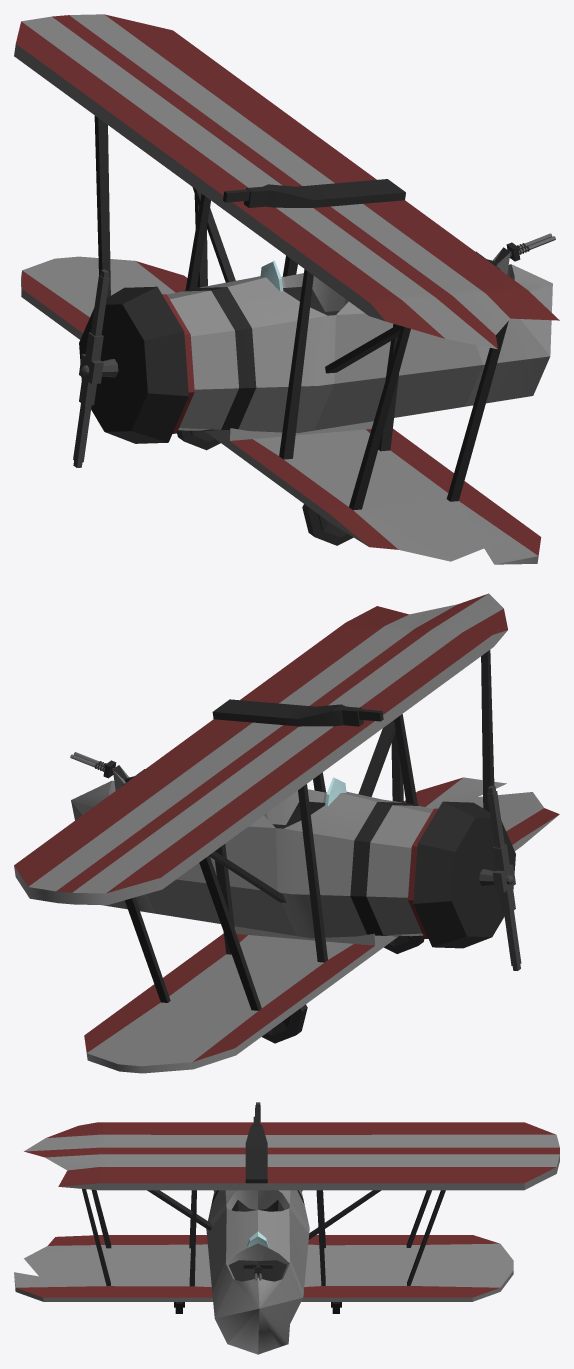
The model's file is FMP_Plane_Front_Half_Shaded.fbx.
The picture shows the model from 3 angles, top to bottom: view 1: azimuth 30°, elevation 25°; view 2: azimuth 150°, elevation 25°; view 3: azimuth 270°, elevation 25°; orthographic projection. The views are drawn at different scales.
Visible parts, largest first — view 1: polySurface494; view 2: polySurface494; view 3: polySurface494.
Part boxes in pixels (x1=…): polySurface494: x1=14, y1=14, x2=559, y2=564; polySurface494: x1=14, y1=593, x2=559, y2=1073; polySurface494: x1=14, y1=1102, x2=559, y2=1354.
Size of the model in its own units: 917 by 576 by 1506.
